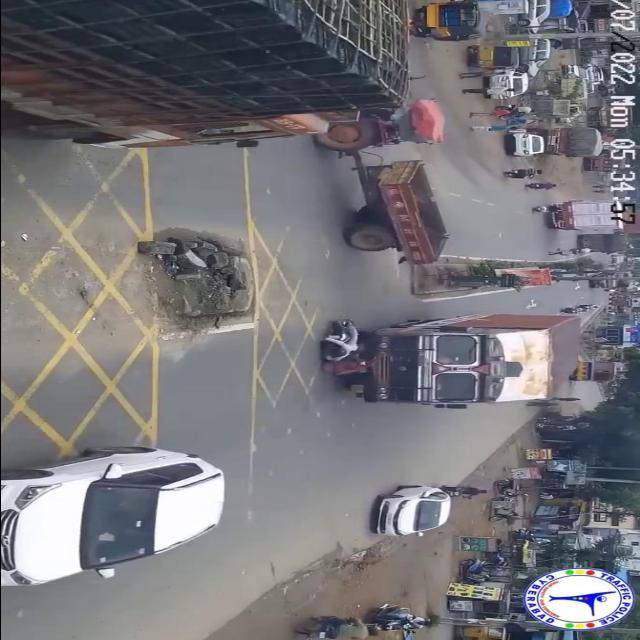accident: (309, 308, 587, 413)
non_accident: (0, 0, 453, 272), (457, 33, 559, 103), (486, 117, 606, 167)
